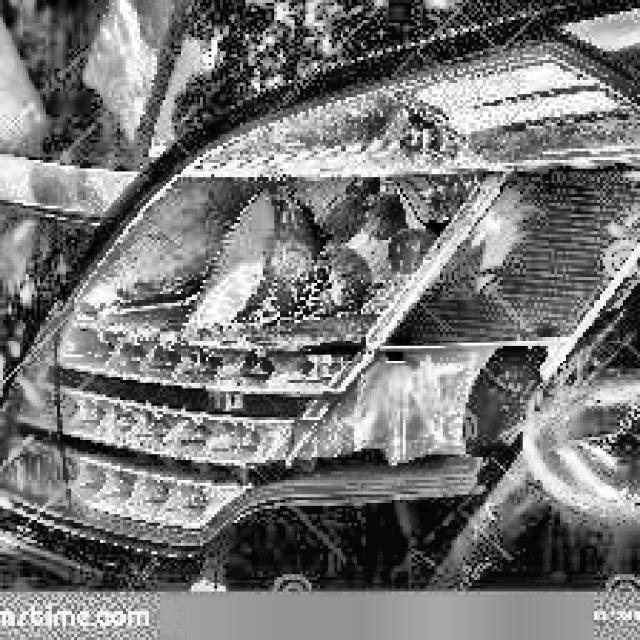tail_lamp: (166, 173, 415, 348), (372, 348, 538, 468)
